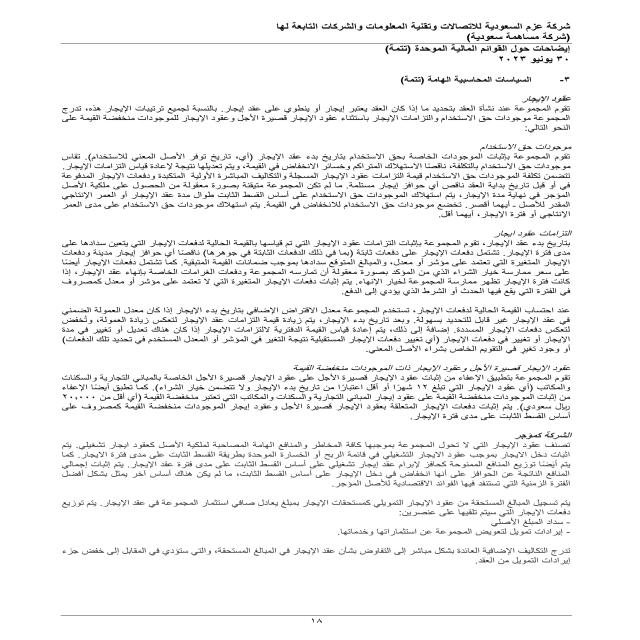notes: (370, 42, 583, 58)
text: (32, 75, 571, 570)
